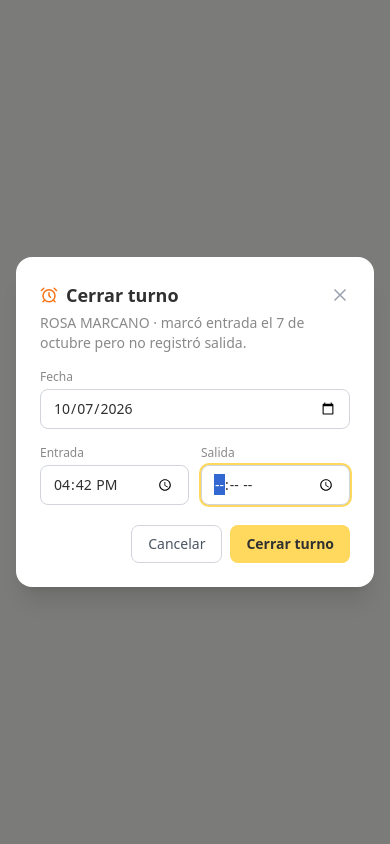
ModalCerrarTurno › si el servidor no dice nada, queda el mensaje de respaldo
The image size is (390, 844).
Type "19:00" into the time field labelled "Salida". click: (276, 485)
box: top-left (201, 465), bottom-right (350, 505)
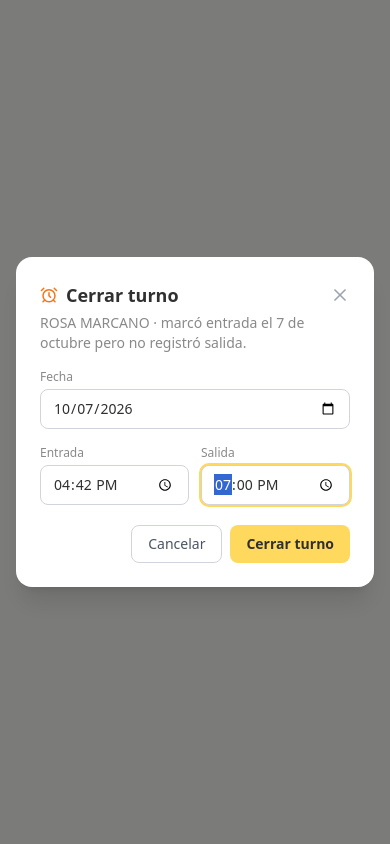
Click the button "Cerrar turno". click: (290, 544)
box: top-left (230, 525), bottom-right (350, 563)
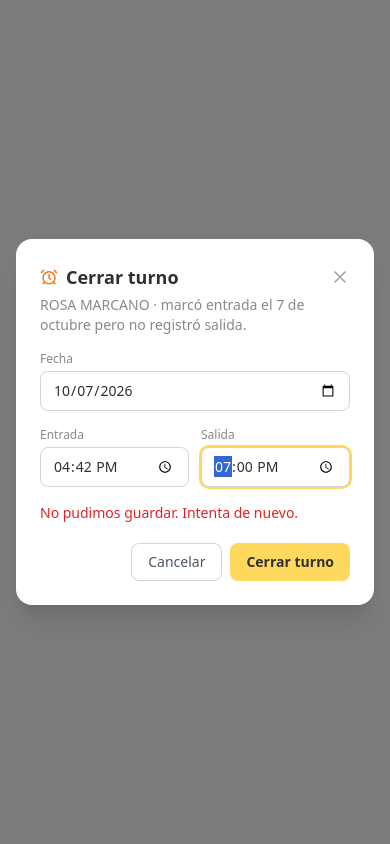
Now the text "No pudimos guardar. Intenta de nuevo." is shown, box top-left (40, 503), bottom-right (298, 522)
